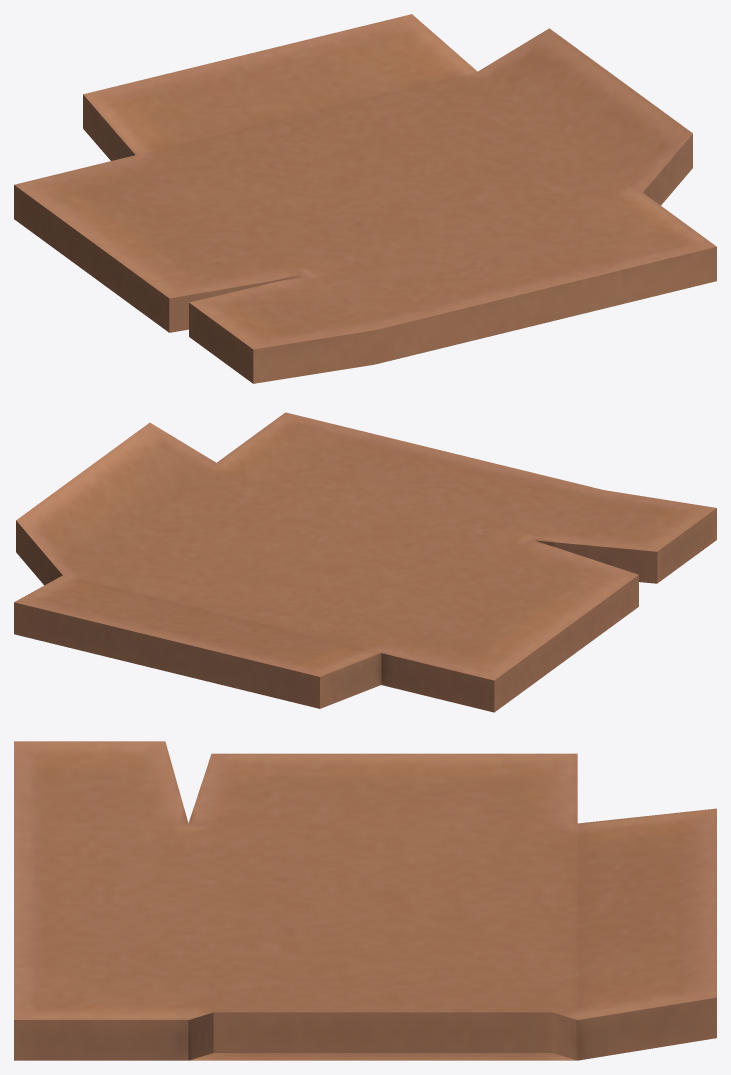
File: Pfb_PaperBox__7.fbx
3 renders of one model, top to bottom at view 1: azimuth 30°, elevation 25°; view 2: azimuth 150°, elevation 25°; view 3: azimuth 270°, elevation 25°, orthographic. The views are drawn at different scales.
Visible parts, largest first — view 1: Mat_PaperBox_02; view 2: Mat_PaperBox_02; view 3: Mat_PaperBox_02.
Part boxes in pixels (x1,y1,x2,y2): Mat_PaperBox_02: (14,14,716,383); Mat_PaperBox_02: (14,412,716,712); Mat_PaperBox_02: (14,741,716,1060).
Bounding box in the file's own units: 0.7033 × 0.0906 × 0.6927.
1 material, 1 textured.
